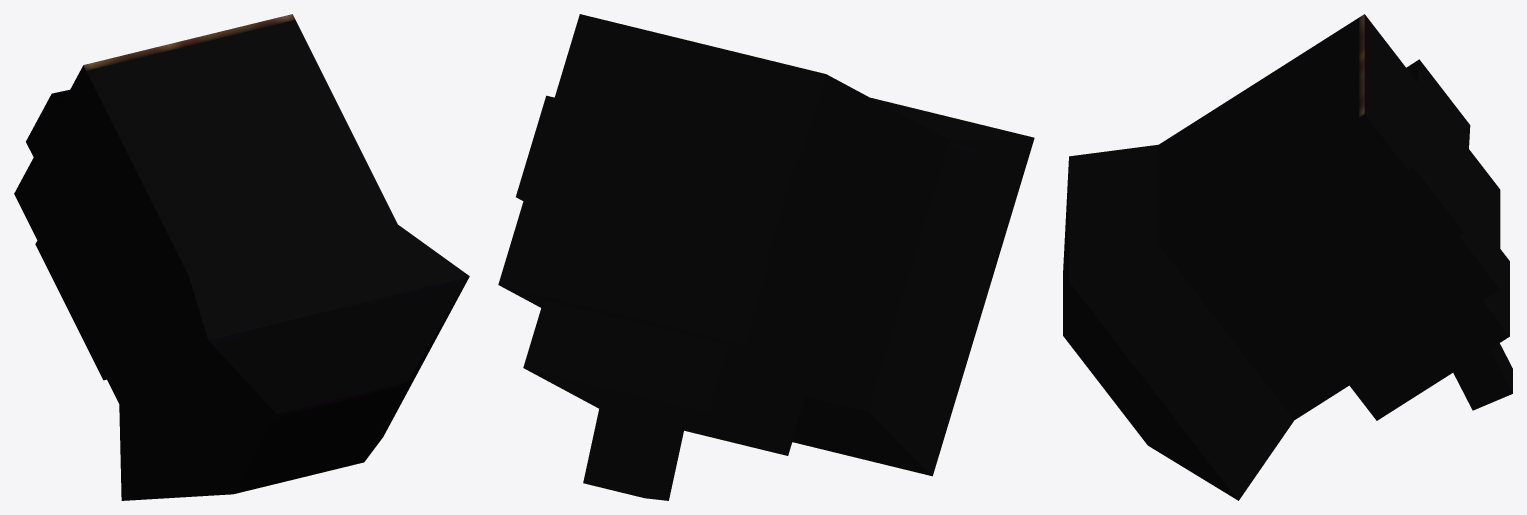
The model's file is brainvoid.obj.
3 renders of one model, left to right at view 1: azimuth 30°, elevation 25°; view 2: azimuth 150°, elevation 25°; view 3: azimuth 270°, elevation 25°, orthographic. The views are drawn at different scales.
Visible parts, largest first — view 1: mask, brain; view 2: brain, mask; view 3: brain, mask.
Boxes of the visible parts, x1=… form: mask: x1=26, y1=90, x2=469, y2=500; brain: x1=14, y1=14, x2=397, y2=403; brain: x1=498, y1=14, x2=949, y2=500; mask: x1=516, y1=95, x2=1034, y2=476; brain: x1=1158, y1=14, x2=1512, y2=420; mask: x1=1063, y1=59, x2=1470, y2=500.
Bounding box in the file's own units: 0.625 × 0.873 × 0.9507.
